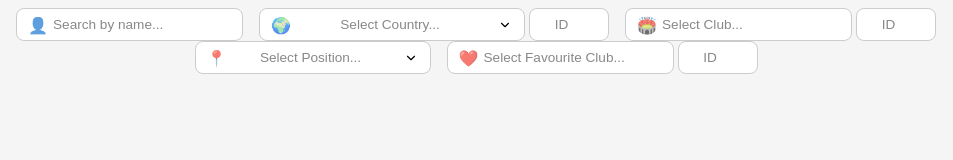
Test: GeneralFilters — country editing (bindable) › updates the select when a country ID is typed
Type "5" into the number field named "Country ID" at {"x": 569, "y": 24}, box 529,8 -> 609,41
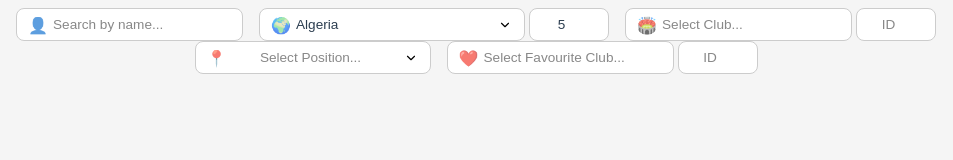
Expected: the dropdown named "Select Country" shows "Algeria", 259,8 -> 525,41
